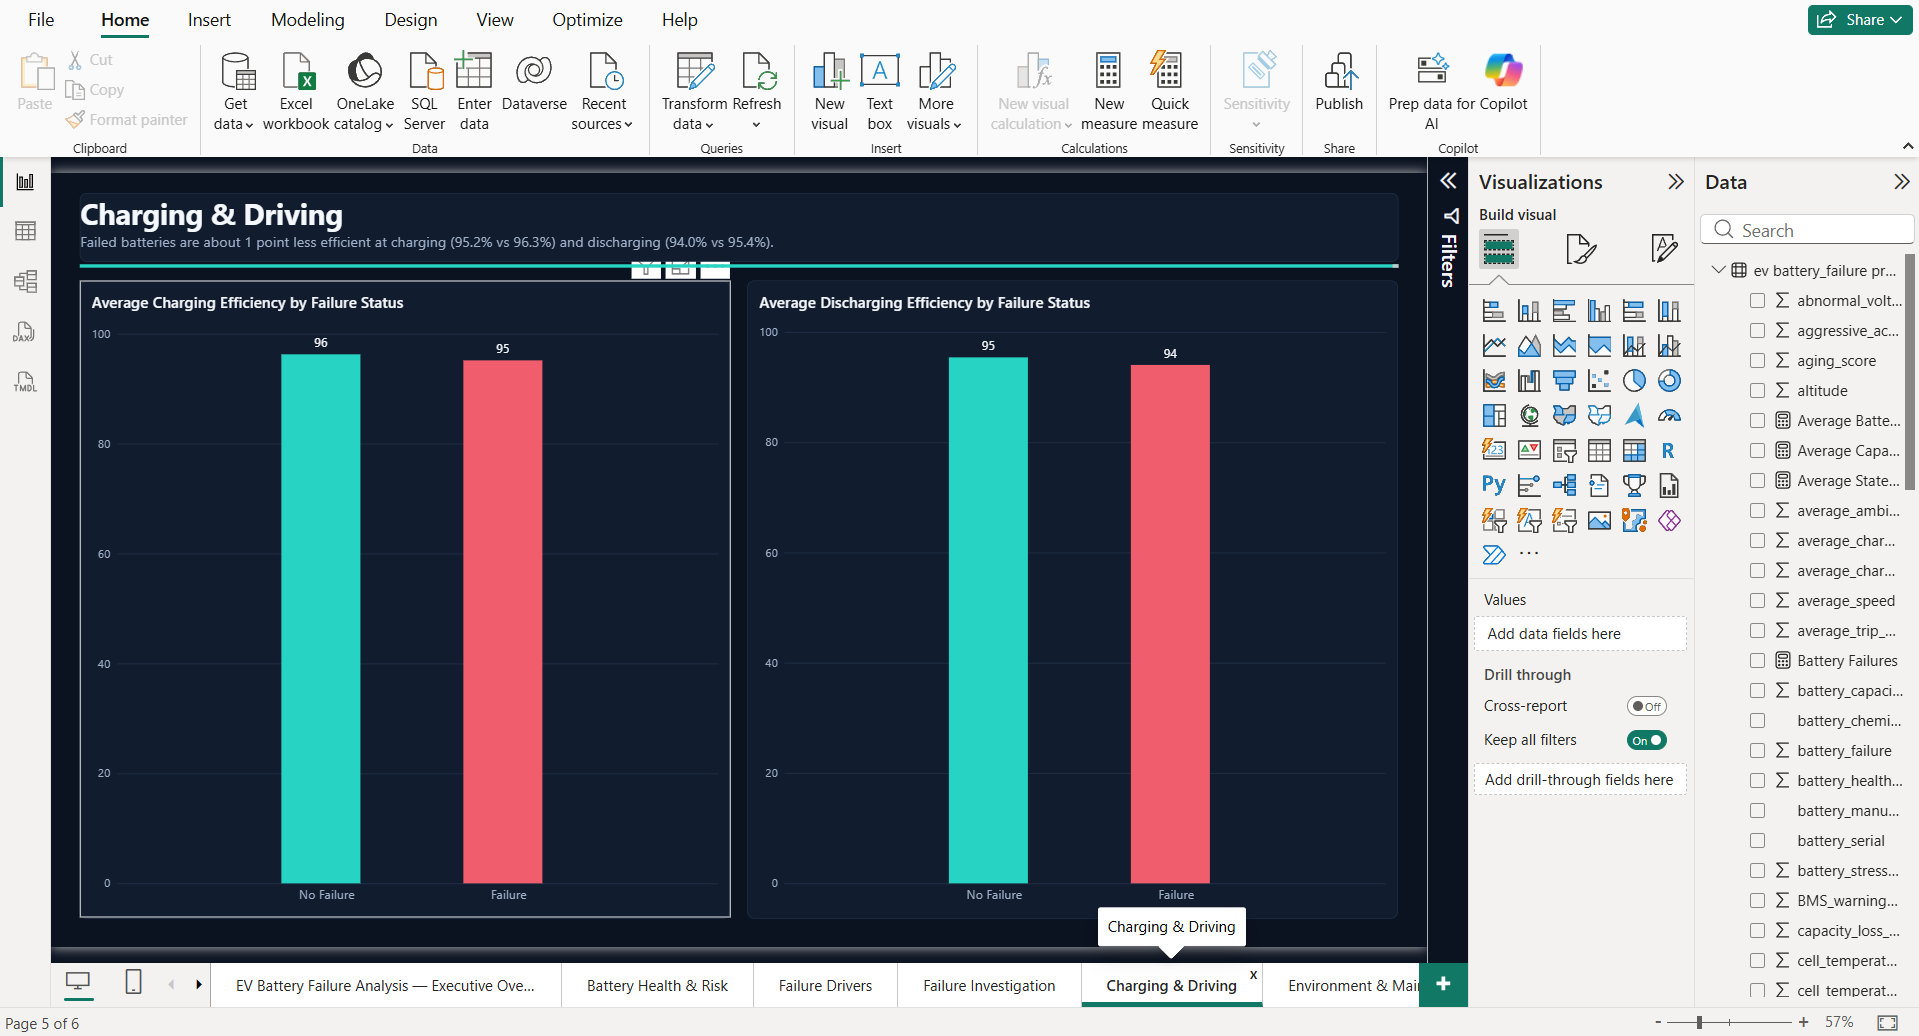

The page's visual inventory and layout, read from the dashboard file:
{"tool":"powerbi","page":{"name":"Charging & Driving","canvas":[1920,1080],"ordinal":4},"visuals":[{"type":"clusteredColumnChart","title":"Average Charging Efficiency by Failure Status","fields":{"Category":["ev battery_failure prediction Dataset.Failure Status Label"],"Y":["Avg(ev battery_failure prediction Dataset.charge_efficiency)"]},"box":[40,150,908,890],"z":0},{"type":"clusteredColumnChart","title":"Average Discharging Efficiency by Failure Status","fields":{"Category":["ev battery_failure prediction Dataset.Failure Status Label"],"Y":["Avg(ev battery_failure prediction Dataset.discharge_efficiency)"]},"box":[972,150,908,890],"z":1},{"type":"textbox","box":[40,28,1840,96],"z":2},{"type":"textbox","box":[40,128,1840,5],"z":50}]}

Visuals, with their boxes on the page's 1920x1080 design canvas (x1, y1, x2, y2). These are canvas units, not pixel positions in the 1919x1036 screenshot, which may show the page scaled, cropped or inside an application window:
"Average Charging Efficiency by Failure Status" clusteredColumnChart: (40,150,948,1040)
"Average Discharging Efficiency by Failure Status" clusteredColumnChart: (972,150,1880,1040)
textbox: (40,28,1880,124)
textbox: (40,128,1880,133)
